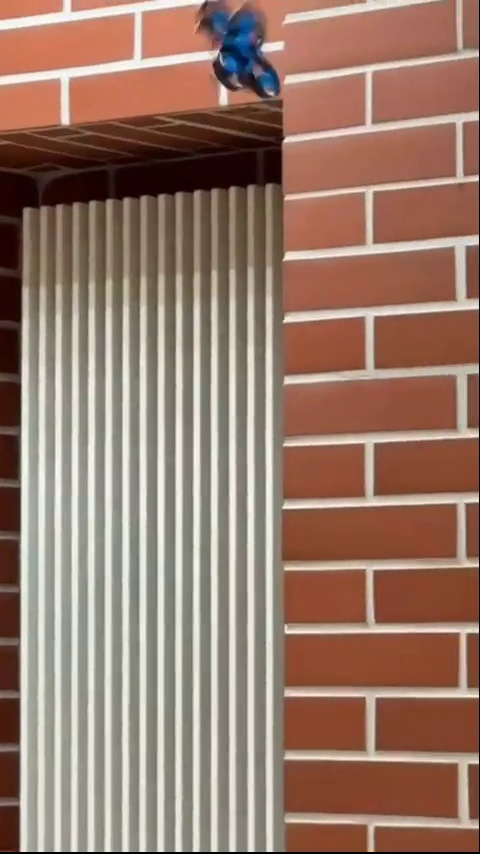drone: (180, 0, 289, 102)
